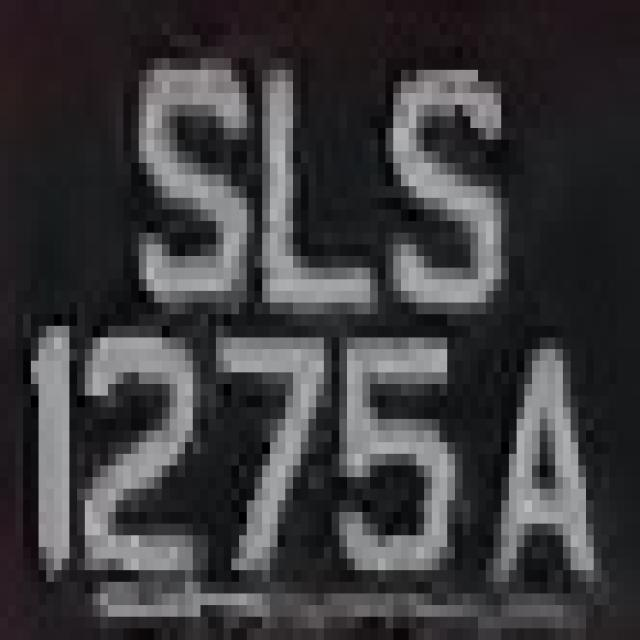1: (23, 279, 77, 617)
2: (85, 303, 208, 570)
5: (324, 303, 447, 605)
7: (200, 291, 332, 593)
A: (478, 314, 602, 605)
L: (262, 46, 401, 326)
S: (116, 12, 270, 314), (378, 58, 516, 361)
